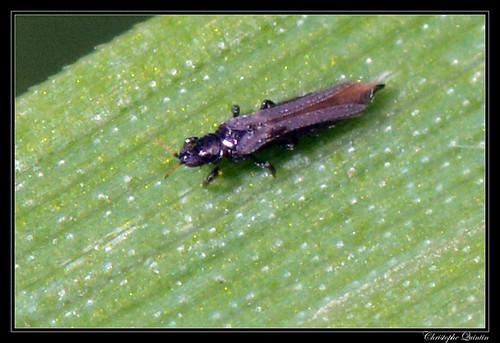tiny_pests: (136, 49, 407, 222)
